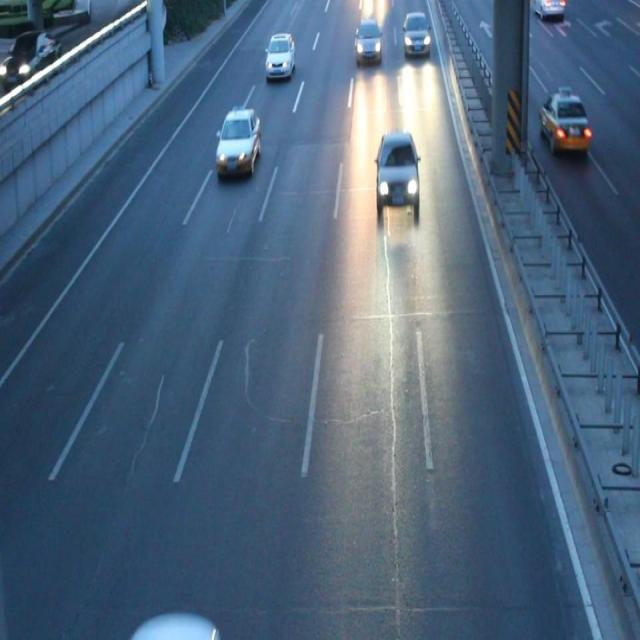car: (374, 132, 420, 212), (216, 108, 260, 175), (264, 32, 294, 79), (400, 12, 428, 57), (355, 20, 381, 62)
